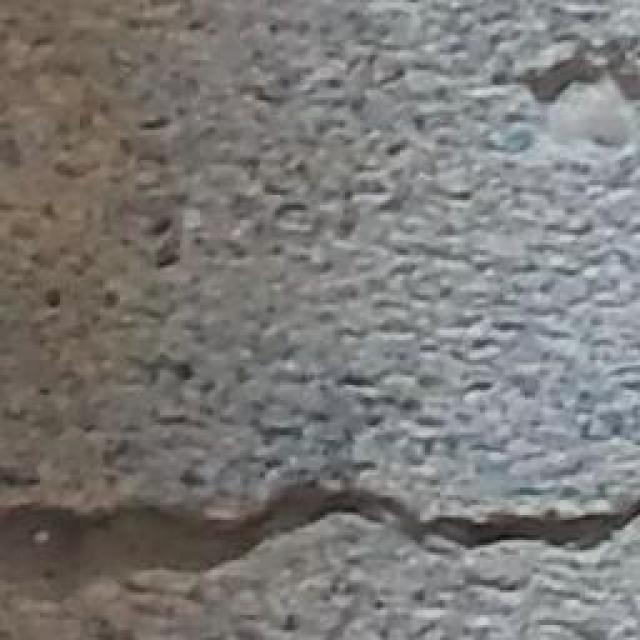concrete-crack: (0, 468, 640, 602)
